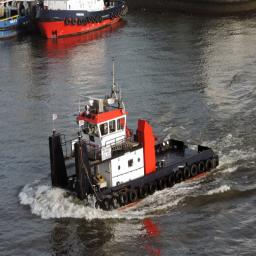tugboat: (48, 57, 222, 217)
